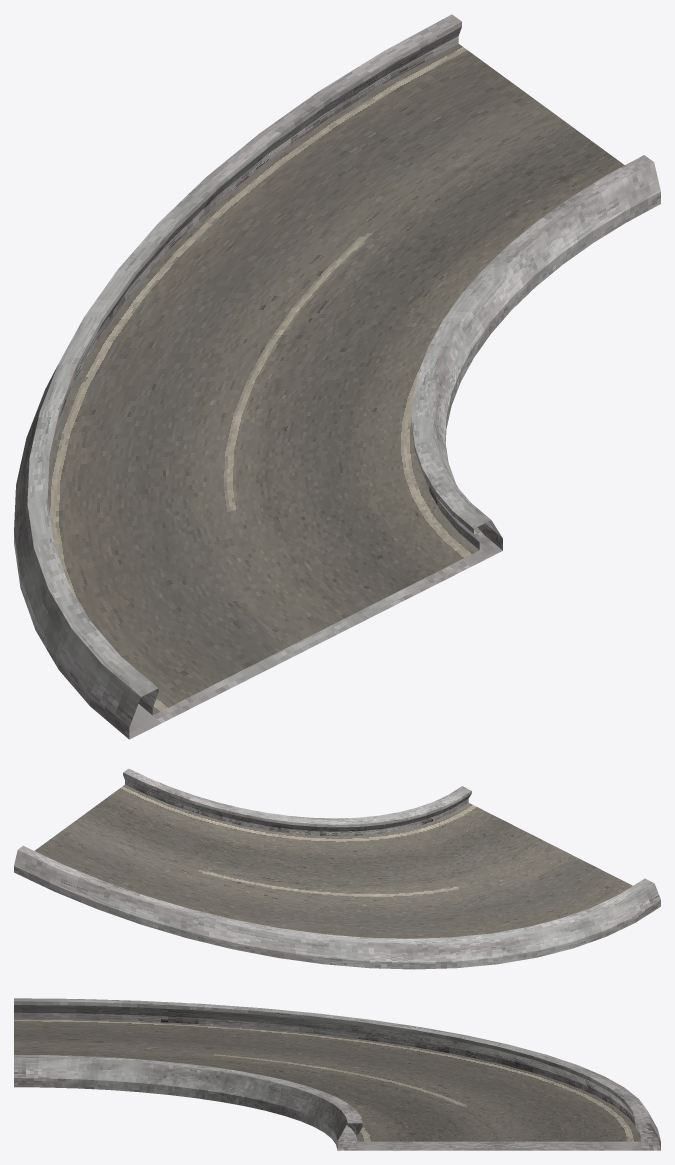
Rendered from road-Turn-HalfBankedLeft-BiSlopeUp-Up2-Right-Size2.glb.
3 views of the same model, one above another, from view 1: azimuth 30°, elevation 25°; view 2: azimuth 150°, elevation 25°; view 3: azimuth 270°, elevation 25° (orthographic). The views are drawn at different scales.
Visible parts, largest first — view 1: road-Turn-HalfBankedLeft-BiSlopeUp-Up2-Right-Size2; view 2: road-Turn-HalfBankedLeft-BiSlopeUp-Up2-Right-Size2; view 3: road-Turn-HalfBankedLeft-BiSlopeUp-Up2-Right-Size2.
Part boxes in pixels (bbox=[...]): road-Turn-HalfBankedLeft-BiSlopeUp-Up2-Right-Size2: bbox=[14, 14, 660, 739]; road-Turn-HalfBankedLeft-BiSlopeUp-Up2-Right-Size2: bbox=[14, 768, 660, 969]; road-Turn-HalfBankedLeft-BiSlopeUp-Up2-Right-Size2: bbox=[14, 998, 660, 1150].
Size of the model in its own units: 2 by 0.5937 by 2.
2 materials, 2 textured.
